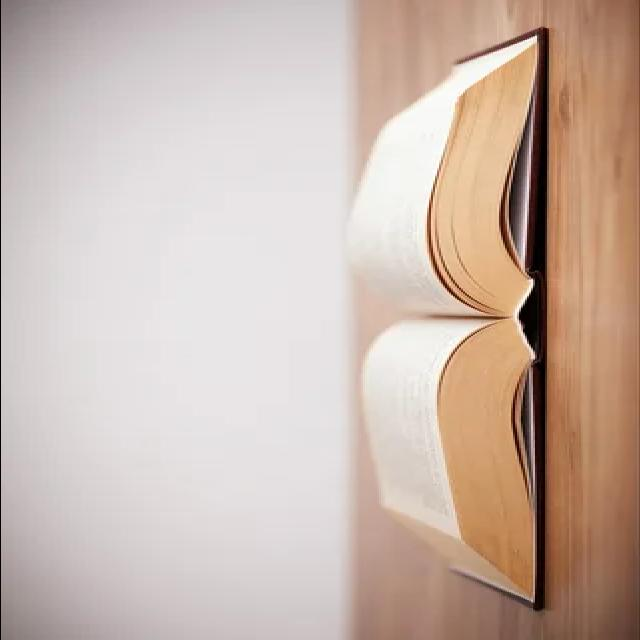book: (329, 26, 581, 614)
